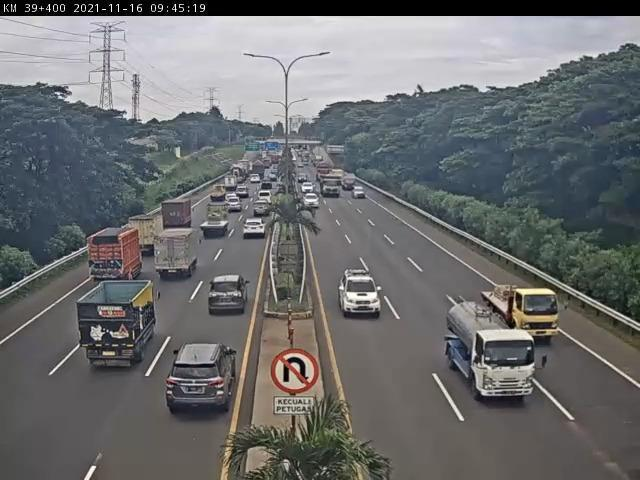car: (165, 349, 238, 418), (338, 269, 382, 318), (208, 274, 250, 314), (245, 219, 267, 239), (236, 185, 255, 202), (258, 191, 277, 207), (227, 195, 244, 211), (254, 203, 269, 217)
truck: (446, 302, 536, 402), (81, 279, 162, 368), (488, 285, 563, 338), (89, 225, 146, 285), (146, 231, 198, 284), (124, 217, 164, 257), (162, 198, 193, 233), (203, 203, 232, 239), (209, 185, 229, 203)
